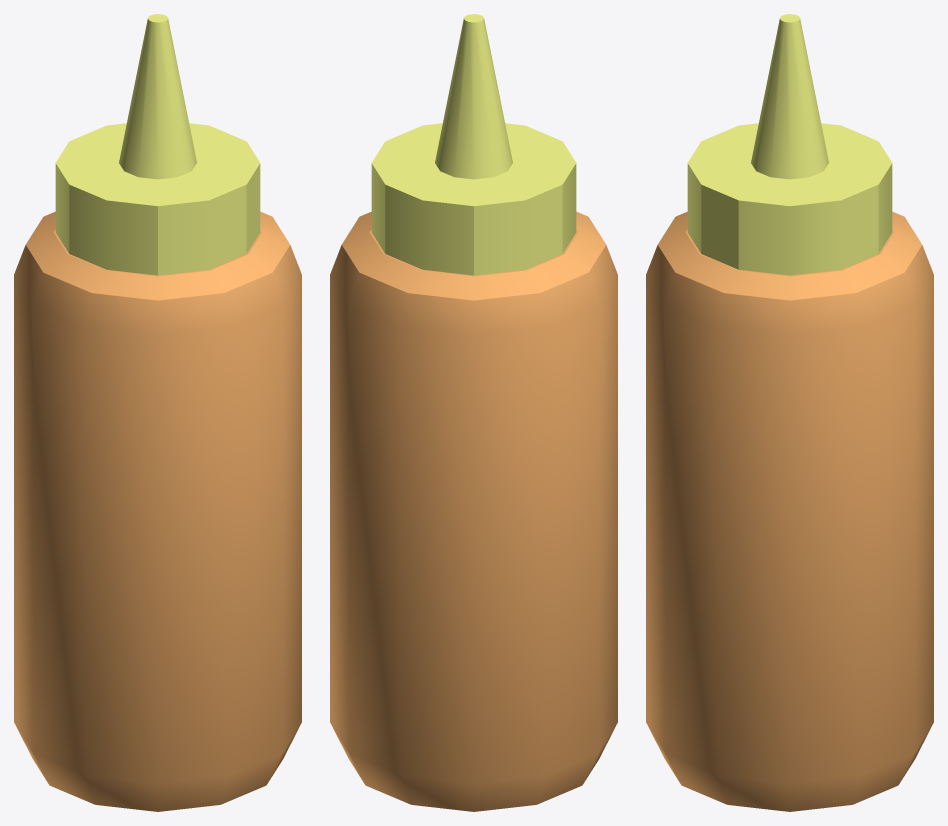
The model's file is SauceBottle2_geo.fbx.
3 views of the same model, side by side, from view 1: azimuth 30°, elevation 25°; view 2: azimuth 150°, elevation 25°; view 3: azimuth 270°, elevation 25° (orthographic).
Parts seen in each view (by area): view 1: SauceBottle2_geo; view 2: SauceBottle2_geo; view 3: SauceBottle2_geo.
Boxes of the visible parts, x1,y1,x2,y2 form: SauceBottle2_geo: (14, 14, 301, 811); SauceBottle2_geo: (330, 14, 617, 811); SauceBottle2_geo: (646, 14, 933, 811).
Size of the model in its own units: 0.1709 by 0.1709 by 0.4854.
